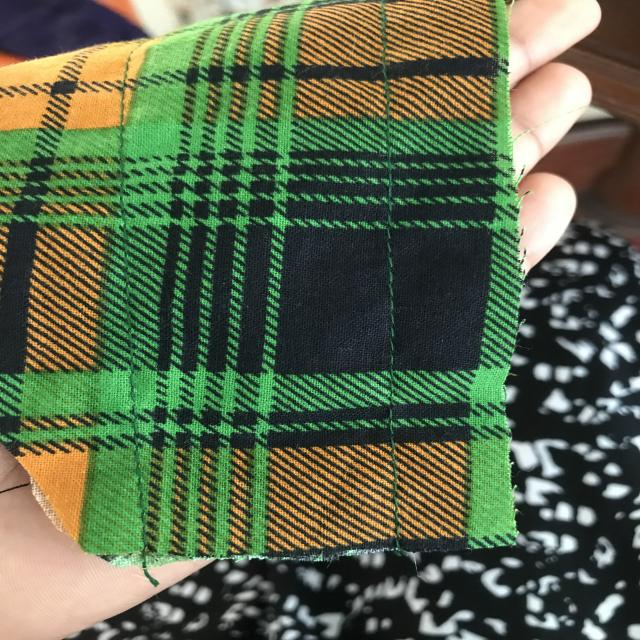good: (377, 257, 413, 340)
